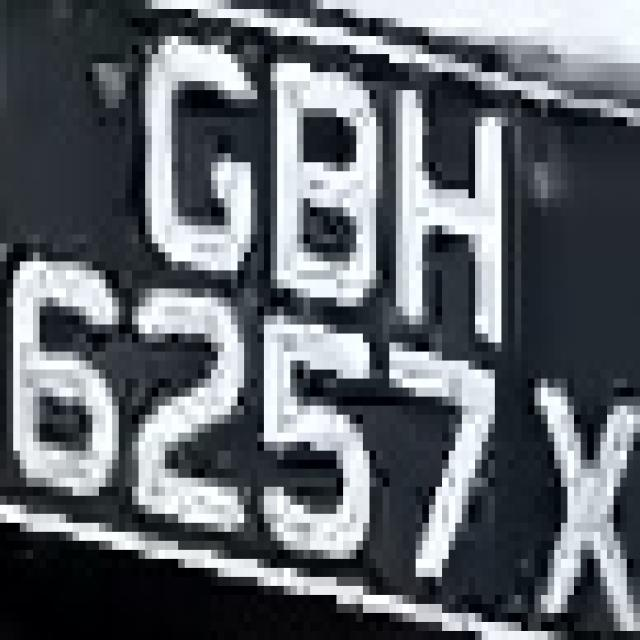2: (125, 261, 251, 559)
5: (238, 288, 376, 586)
6: (14, 225, 126, 514)
7: (376, 315, 502, 604)
B: (257, 36, 383, 325)
G: (138, 18, 264, 297)
H: (383, 54, 521, 370)
X: (5, 5, 7, 9)
